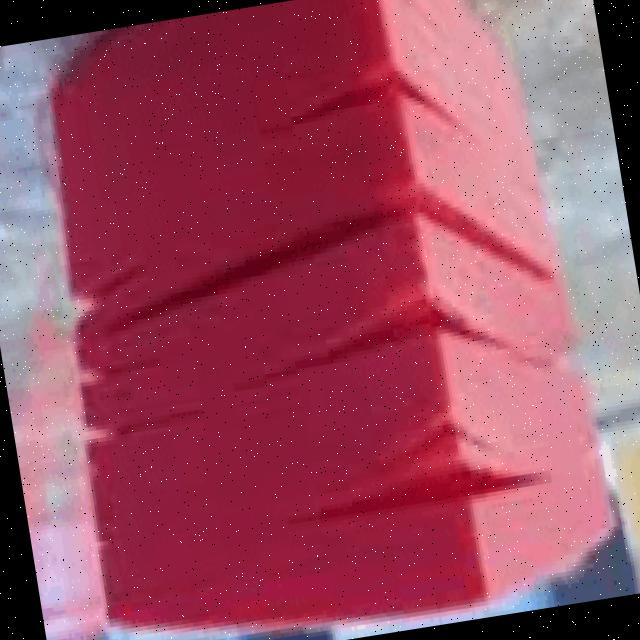cracks: (141, 141, 545, 312), (273, 390, 565, 553), (257, 273, 551, 411), (250, 36, 473, 157)
